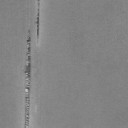slag inclusion: (24, 29, 31, 128), (36, 8, 40, 38)
